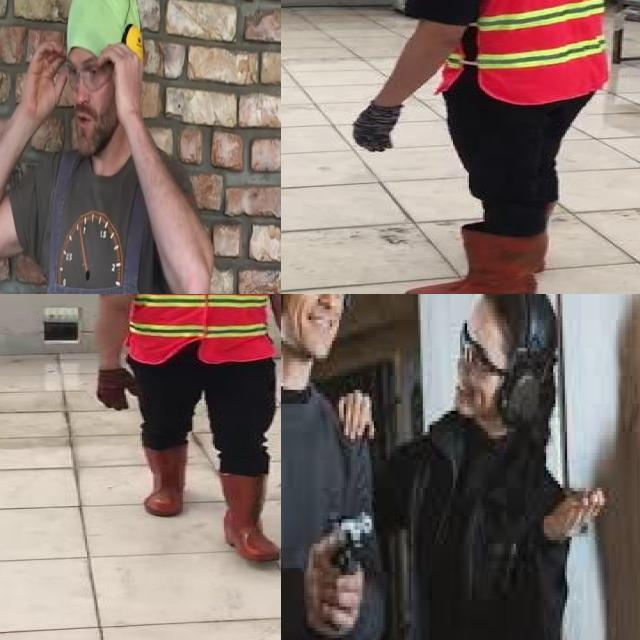Ear-protection: (64, 0, 148, 168), (497, 355, 539, 432)
boots: (404, 225, 545, 294), (218, 471, 281, 562), (142, 444, 188, 516)
glasses: (456, 313, 492, 379), (68, 57, 109, 93)
hand_glove: (346, 102, 404, 154), (92, 369, 140, 411)
person: (337, 0, 614, 294), (400, 294, 605, 640), (0, 0, 213, 294), (82, 294, 281, 570), (281, 294, 392, 640)
vest: (431, 0, 613, 104), (124, 294, 278, 361)
